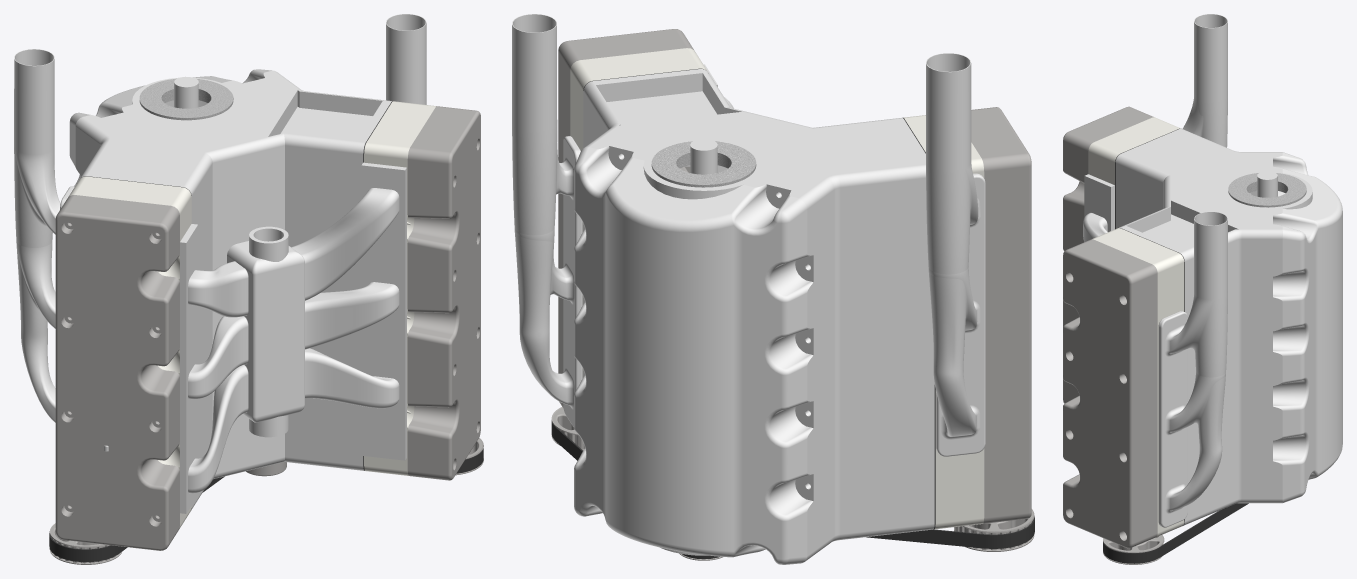
Rendered from Turbo_V6_Engine.glb.
3 renders of one model, left to right at view 1: azimuth 30°, elevation 25°; view 2: azimuth 150°, elevation 25°; view 3: azimuth 270°, elevation 25°, orthographic. The views are drawn at different scales.
Visible parts, largest first — view 1: Solid1 (×11), Solid6, Solid2; view 2: Solid1 (×11), Solid2; view 3: Solid1 (×11), Solid2, Solid6.
Boxes of the visible parts, x1,y1,x2,y2 form: Solid1 (×11): (14,14,483,564); Solid6: (180,162,406,513); Solid2: (79,77,391,509); Solid1 (×11): (512,14,1034,564); Solid2: (583,69,934,553); Solid1 (×11): (1063,14,1342,564); Solid2: (1115,128,1267,525); Solid6: (1083,174,1114,241).
Bounding box in the file's own units: 0.6885 × 0.7178 × 0.4712.
Materials: 12 (2 with a texture image).
